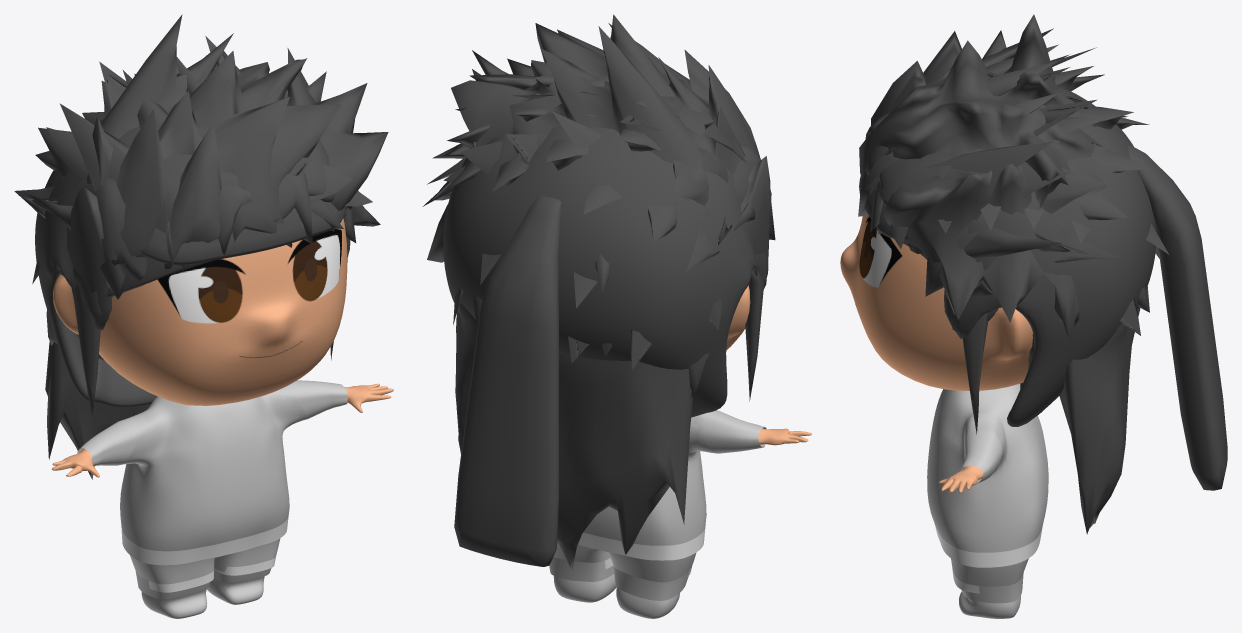
3 views of the same model, side by side, from view 1: azimuth 30°, elevation 25°; view 2: azimuth 150°, elevation 25°; view 3: azimuth 270°, elevation 25° (orthographic). The views are drawn at different scales.
Visible parts, largest first — view 1: HAIR_1_L, KATAWAN, TSHIRT, HAIR_1_B, HAIR_2_B, HAIR_2_L, HAIR_3_B, LONGSLEEVE, SHORT, JERSEY_TOP, RSHOES, HAIR_3_L (+3 smaller); view 2: HAIR_2_B, HAIR_3_B, HAIR_1_L, HAIR_1_B, HAIR_2_L, TSHIRT, PANTS, LONGSLEEVE, HAIR_3_L, SHORT, JERSEY_TOP, KATAWAN (+2 smaller); view 3: HAIR_1_L, HAIR_2_B, KATAWAN, TSHIRT, HAIR_2_L, HAIR_3_B, HAIR_1_B, HAIR_3_L, LONGSLEEVE, JERSEY_TOP, SHORT, LSHEOS (+1 smaller).
Boxes of the visible parts, x1,y1,x2,y2 form: HAIR_1_L: [32, 14, 388, 361]; KATAWAN: [51, 218, 393, 477]; TSHIRT: [120, 390, 299, 551]; HAIR_1_B: [47, 132, 355, 479]; HAIR_2_B: [35, 118, 335, 407]; HAIR_2_L: [14, 36, 352, 334]; HAIR_3_B: [45, 202, 346, 395]; LONGSLEEVE: [77, 380, 347, 466]; SHORT: [130, 538, 280, 584]; JERSEY_TOP: [121, 518, 288, 565]; RSHOES: [141, 589, 207, 618]; HAIR_3_L: [79, 94, 372, 289]; HAIR_2_B: [443, 97, 757, 417]; HAIR_3_B: [454, 196, 768, 566]; HAIR_1_L: [427, 14, 770, 398]; HAIR_1_B: [455, 109, 775, 570]; HAIR_2_L: [422, 74, 767, 369]; TSHIRT: [583, 423, 706, 545]; PANTS: [549, 557, 689, 600]; LONGSLEEVE: [690, 410, 766, 453]; HAIR_3_L: [443, 93, 759, 272]; SHORT: [553, 541, 696, 582]; JERSEY_TOP: [578, 528, 705, 560]; KATAWAN: [726, 285, 811, 445]; HAIR_1_L: [859, 14, 1149, 412]; HAIR_2_B: [864, 89, 1155, 426]; KATAWAN: [840, 216, 1032, 492]; TSHIRT: [927, 384, 1048, 552]; HAIR_2_L: [912, 28, 1169, 361]; HAIR_3_B: [859, 144, 1227, 490]; HAIR_1_B: [858, 93, 1140, 534]; HAIR_3_L: [877, 72, 1106, 248]; LONGSLEEVE: [960, 421, 1003, 483]; JERSEY_TOP: [934, 523, 1042, 567]; SHORT: [951, 558, 1028, 586]; LSHEOS: [959, 591, 1020, 618].
Bounding box in the file's own units: 3.17 × 5.09 × 3.08.
